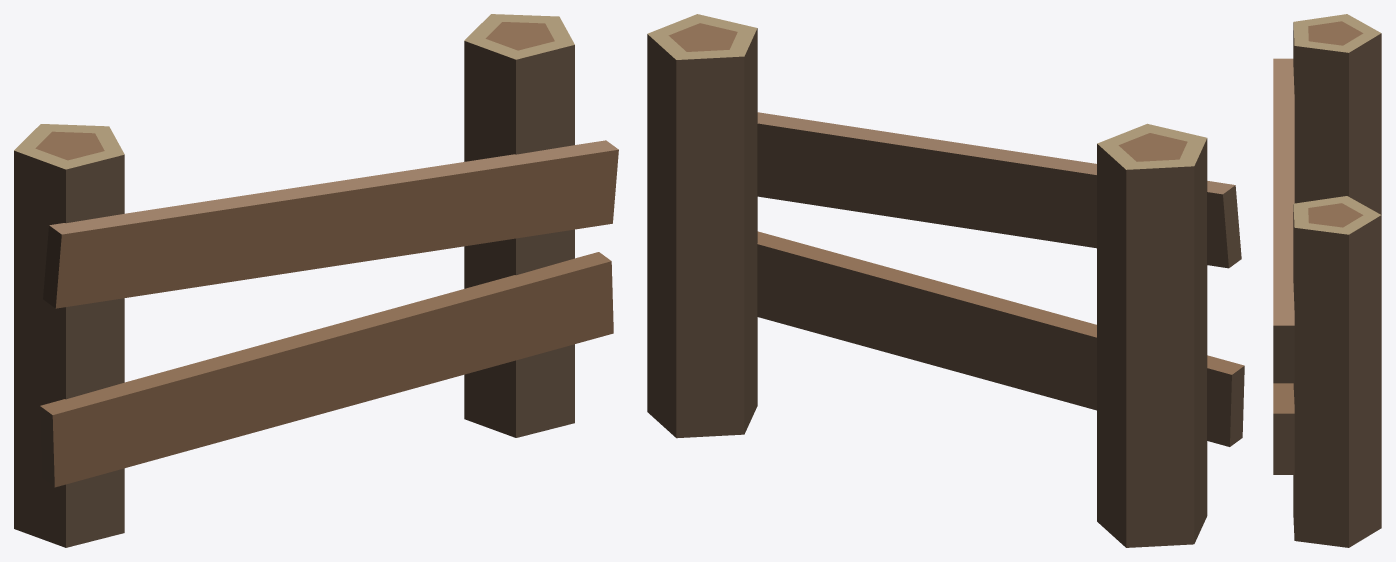
File: TB_D_Bd_Fence_Zig_A.FBX
3 renders of one model, left to right at view 1: azimuth 30°, elevation 25°; view 2: azimuth 150°, elevation 25°; view 3: azimuth 270°, elevation 25°, orthographic. The views are drawn at different scales.
Visible parts, largest first — view 1: TB_D_Bd_Fence_Zig_A; view 2: TB_D_Bd_Fence_Zig_A; view 3: TB_D_Bd_Fence_Zig_A.
Part boxes in pixels (x1,y1,x2,y2): TB_D_Bd_Fence_Zig_A: (14,14,618,547); TB_D_Bd_Fence_Zig_A: (647,14,1244,547); TB_D_Bd_Fence_Zig_A: (1273,14,1381,547).
Bounding box in the file's own units: 2.28 × 1.46 × 0.4557.
